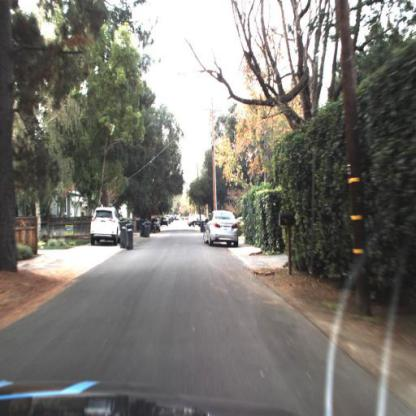car: (92, 204, 122, 254), (202, 211, 241, 249), (89, 206, 123, 248), (189, 213, 207, 229), (151, 217, 162, 232), (162, 213, 170, 227), (208, 213, 213, 222)
